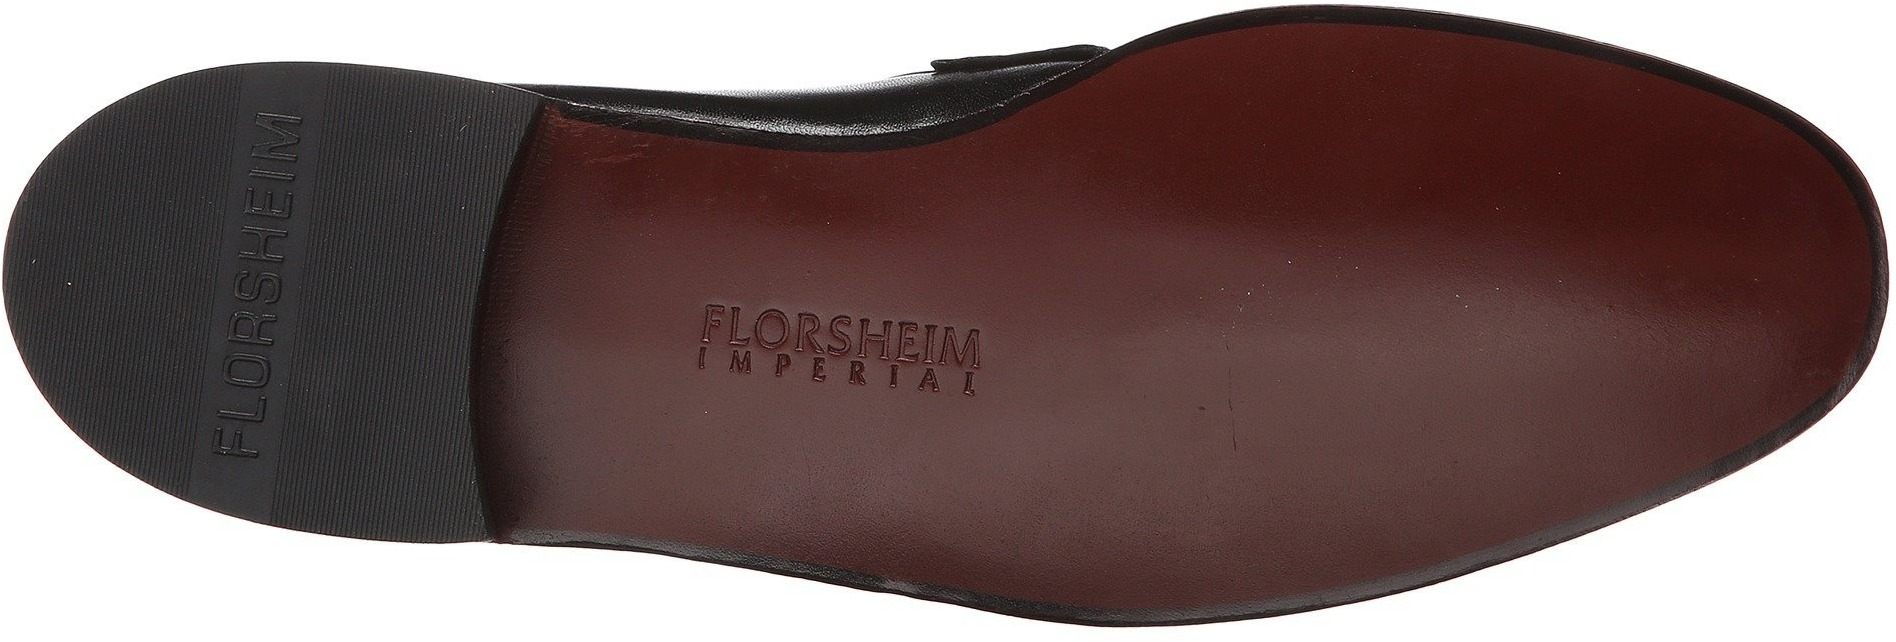exclude: (479, 105, 686, 554)
line: (45, 206, 193, 353), (345, 148, 493, 258)
other: (975, 23, 1886, 615), (996, 151, 1372, 579), (1351, 91, 1748, 455), (6, 48, 244, 524)
